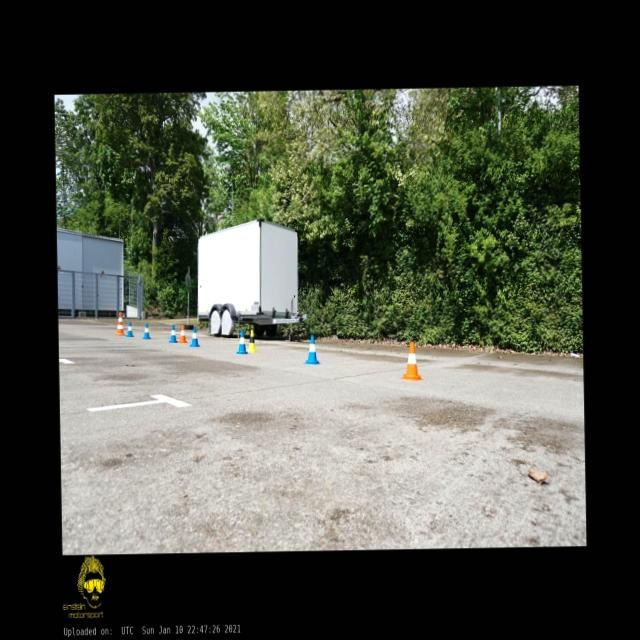blue_cone: (304, 334, 320, 364), (236, 329, 247, 354), (188, 326, 200, 346), (168, 323, 176, 342), (142, 322, 150, 338), (125, 321, 133, 336)
large_orange_cone: (115, 311, 124, 335)
orange_cone: (400, 342, 422, 380), (178, 324, 186, 343)
yellow_cone: (245, 328, 257, 352)
